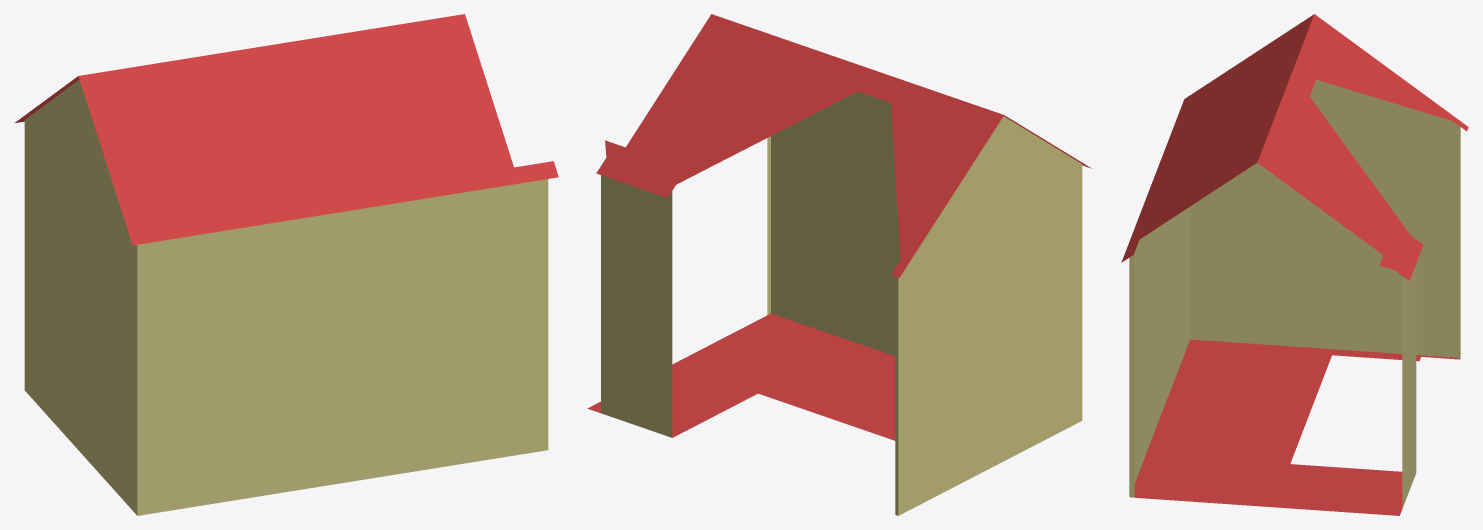
3 renders of one model, left to right at view 1: azimuth 30°, elevation 25°; view 2: azimuth 150°, elevation 25°; view 3: azimuth 270°, elevation 25°, orthographic. The views are drawn at different scales.
Bounding box in the file's own units: 14.98 × 12.22 × 12.85.
